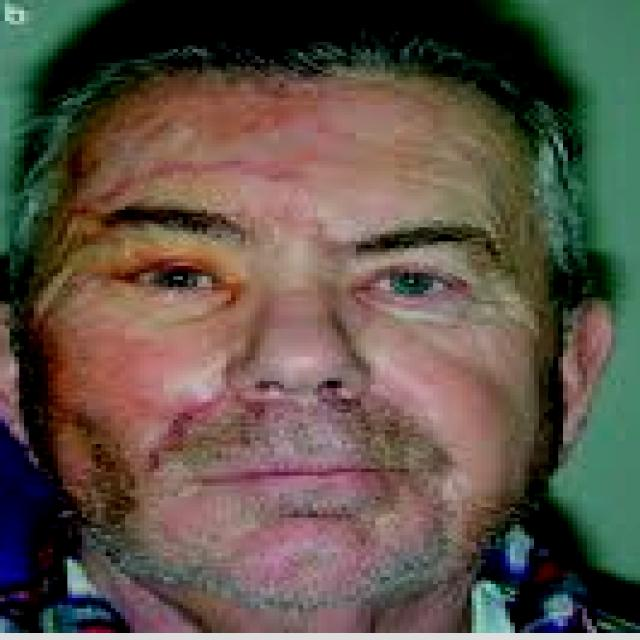normal_face: (84, 32, 562, 618)
